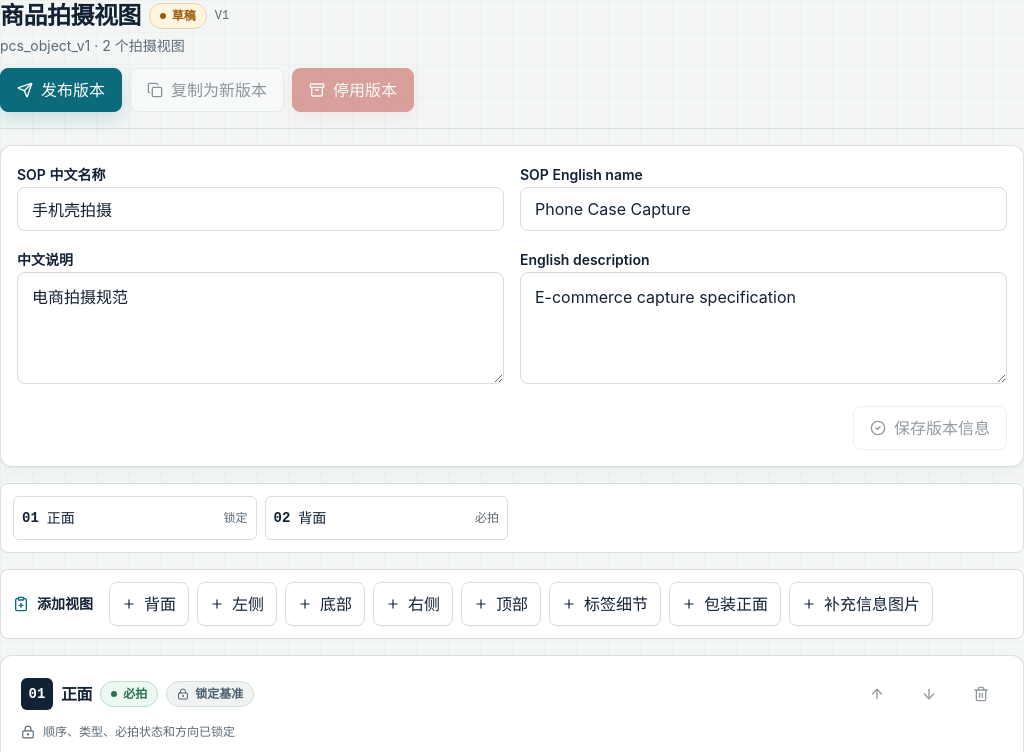
Test: SOPVersionEditor › adds packaging front as an optional preset through the real endpoint
Click the button with aria-label "添加包装正面": (725, 604) [669,582,781,626]
(page scrolled)
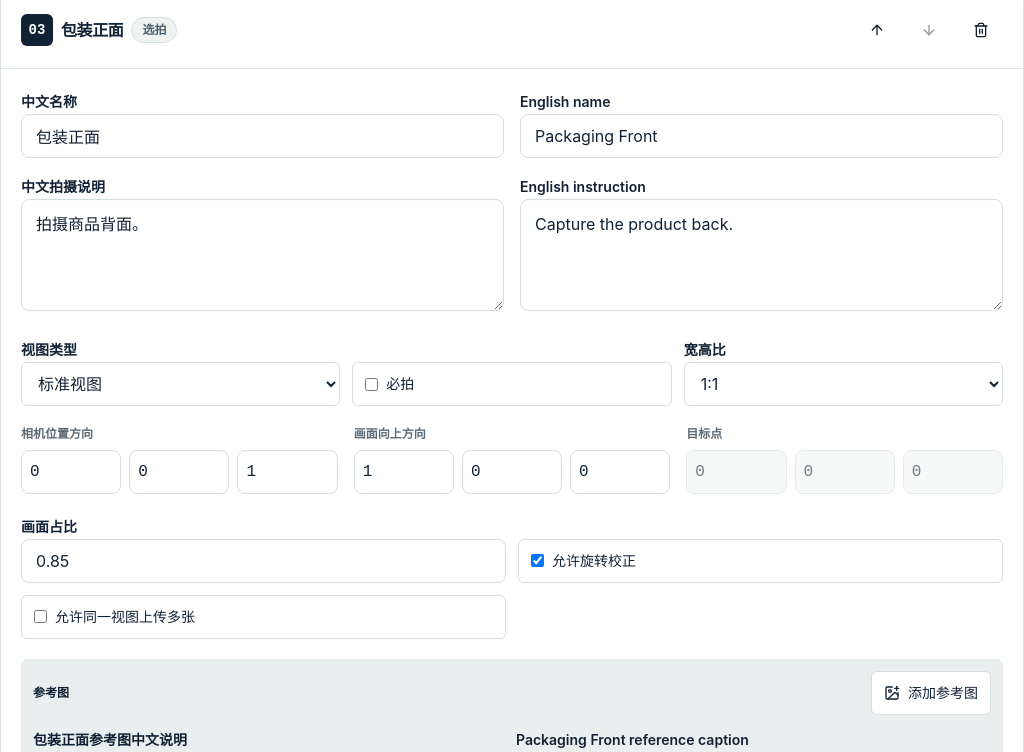
Now the field showing "Packaging Front" is shown, box [520,114,1003,158]
Now the checkbox named "Packaging Front 必拍" is not checked, box [365,378,378,391]
